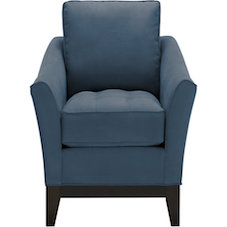chair: (23, 0, 200, 226)
